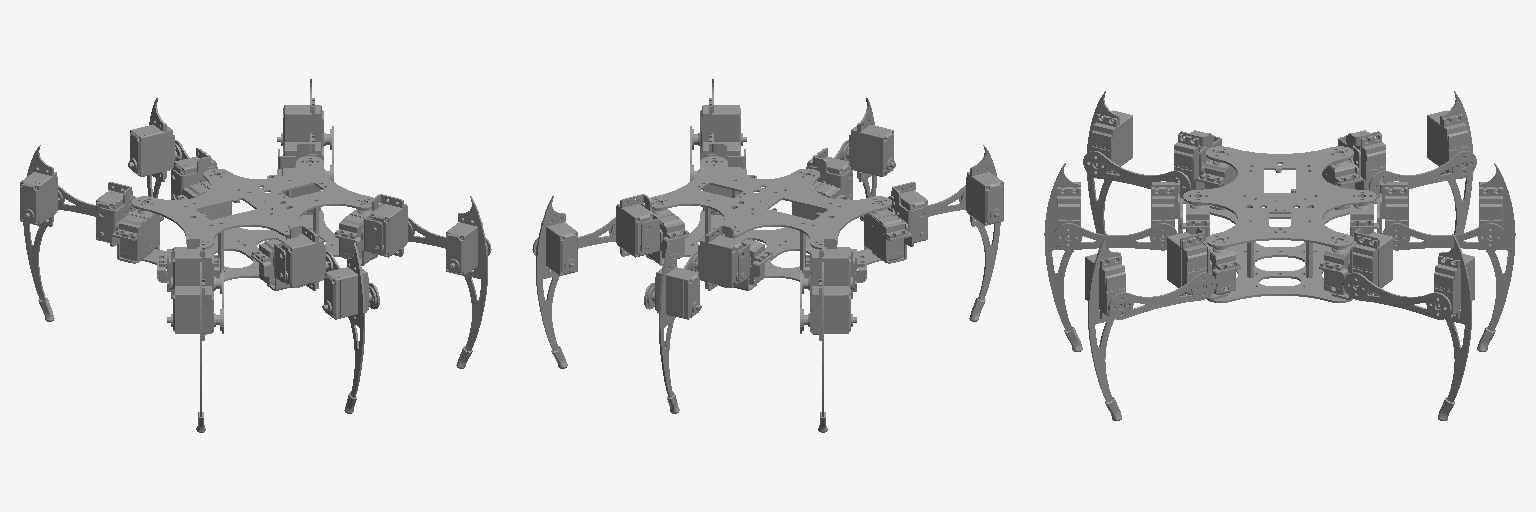
--- Facts derived from the render (not from the file) ---
Views: 3 orthographic renders of the robot side by side, from view 1: azimuth 30°, elevation 25°; view 2: azimuth 150°, elevation 25°; view 3: azimuth 270°, elevation 25°.
Model Hexapod with 32 links and 31 joints (18 revolute, 13 fixed), rooted at root_link, posed all joints at 0.
Visible links, largest first — view 1: body_link, R_front_coxa_link, R_mid_coxa_link, L_back_coxa_link, R_front_tibia_link, R_mid_tibia_link, L_back_tibia_link, L_mid_tibia_link, R_back_tibia_link, R_back_coxa_link, L_mid_coxa_link, L_front_tibia_link (+2 smaller); view 2: body_link, L_front_coxa_link, L_mid_coxa_link, R_back_coxa_link, L_front_tibia_link, L_mid_tibia_link, R_back_tibia_link, R_mid_tibia_link, L_back_tibia_link, L_back_coxa_link, R_mid_coxa_link, R_front_tibia_link (+2 smaller); view 3: body_link, L_front_tibia_link, R_front_tibia_link, L_front_coxa_link, R_front_coxa_link, L_mid_tibia_link, R_mid_tibia_link, L_back_tibia_link, R_back_tibia_link, L_back_coxa_link, R_back_coxa_link, L_mid_coxa_link (+7 smaller).
Boxes of the visible links, <box> form: body_link: <box>132,156,377,287</box>; R_front_coxa_link: <box>335,194,412,265</box>; R_mid_coxa_link: <box>251,225,332,290</box>; L_back_coxa_link: <box>96,182,163,263</box>; R_front_tibia_link: <box>446,196,487,368</box>; R_mid_tibia_link: <box>322,242,376,413</box>; L_back_tibia_link: <box>20,145,62,321</box>; L_mid_tibia_link: <box>128,98,181,272</box>; R_back_tibia_link: <box>167,262,221,432</box>; R_back_coxa_link: <box>157,238,221,298</box>; L_mid_coxa_link: <box>171,148,231,219</box>; L_front_tibia_link: <box>277,79,331,149</box>; body_link: <box>646,156,891,287</box>; L_front_coxa_link: <box>611,194,688,265</box>; L_mid_coxa_link: <box>691,225,772,290</box>; R_back_coxa_link: <box>860,182,927,263</box>; L_front_tibia_link: <box>536,196,577,368</box>; L_mid_tibia_link: <box>647,242,701,413</box>; R_back_tibia_link: <box>961,145,1003,321</box>; R_mid_tibia_link: <box>842,98,895,272</box>; L_back_tibia_link: <box>802,262,856,432</box>; L_back_coxa_link: <box>802,238,866,298</box>; R_mid_coxa_link: <box>792,148,852,219</box>; R_front_tibia_link: <box>692,79,746,149</box>; body_link: <box>1183,146,1376,302</box>; L_front_tibia_link: <box>1430,234,1474,420</box>; R_front_tibia_link: <box>1085,234,1129,420</box>; L_front_coxa_link: <box>1319,228,1392,299</box>; R_front_coxa_link: <box>1167,228,1240,299</box>; L_mid_tibia_link: <box>1477,163,1515,351</box>; R_mid_tibia_link: <box>1044,163,1082,351</box>; L_back_tibia_link: <box>1427,91,1472,250</box>; R_back_tibia_link: <box>1087,91,1132,250</box>; L_back_coxa_link: <box>1322,130,1385,209</box>; R_back_coxa_link: <box>1174,130,1237,209</box>; L_mid_coxa_link: <box>1350,180,1408,244</box>.
Bounding box of the posed robot: 0.3377 × 0.4002 × 0.1763 m (x, y, z).
25 mesh visuals loaded from 8 distinct referenced files (8 Collada DAE).

URDF robot description (Hexapod):
<?xml version="1.0" ?>
<!-- created with Phobos 1.0.1 "Capricious Choutengan" -->
<robot name="Hexapod">
    <link name="L_back_coxa_link">

<inertial>
            <origin xyz="0 0 0" rpy="0 0 0" />
            <mass value="0.1" />
            <inertia ixx="4e-05" ixy="1e-05" ixz="0" iyy="5e-05" iyz="0" izz="5e-05" />
        </inertial>

        <visual name="L_back_coxa">
            <origin xyz="0 0 0" rpy="0 0 0" />
            <geometry>
                <mesh filename="package://hexapod_description/meshes/dae/L_coxa_shape.dae" scale="1.0 1.0 1.0" />
            </geometry>
            <material name="coxa_mat" />
        </visual>
        <collision name="L_back_coxa">
            <origin xyz="0.0147 0.00949 0.00745" rpy="0 0 0" />
            <geometry>
                <mesh filename="package://hexapod_description/meshes/dae/L_coxa_shape.dae" scale="1.0 1.0 1.0" />
            </geometry>
        </collision>
    </link>
    <link name="L_back_femur_link">

<inertial>
            <origin xyz="0 0 0" rpy="0 0 0" />
            <mass value="0.1" />
            <inertia ixx="0.00015" ixy="7e-05" ixz="3e-05" iyy="7e-05" iyz="-5e-05" izz="0.00022" />
        </inertial>

        <visual name="L_back_femur">
            <origin xyz="0 0 0" rpy="3.14159 -1.5708 0" />
            <geometry>
                <mesh filename="package://hexapod_description/meshes/dae/L_femur_shape.dae" scale="1.0 1.0 1.0" />
            </geometry>
            <material name="femur_mat" />
        </visual>
        <collision name="L_back_femur">
            <origin xyz="-0.02133 5e-05 0.04" rpy="3.14159 -1.5708 0" />
            <geometry>
                <mesh filename="package://hexapod_description/meshes/dae/L_femur_shape.dae" scale="1.0 1.0 1.0" />
            </geometry>
        </collision>
    </link>
    <link name="L_back_foot_link">

<inertial>
            <origin xyz="0 0 0" rpy="0 0 0" />
            <mass value="0.001" />
            <inertia ixx="0.001" ixy="0" ixz="0" iyy="0.001" iyz="0" izz="0.001" />
        </inertial>

    </link>
    <link name="L_back_tibia_link">

<inertial>
            <origin xyz="0.00047 -0.00372 -0.0585" rpy="0 0 0" />
            <mass value="0.2" />
            <inertia ixx="6e-05" ixy="4e-05" ixz="0" iyy="6e-05" iyz="0" izz="3e-05" />
        </inertial>

        <visual name="L_back_foot">
            <origin xyz="0.00094 -0.00744 -0.117" rpy="0 1.5708 0" />
            <geometry>
                <mesh filename="package://hexapod_description/meshes/dae/foot_shape.dae" scale="1.0 1.0 1.0" />
            </geometry>
            <material name="foot_mat" />
        </visual>
        <visual name="L_back_tibia">
            <origin xyz="0 0 0" rpy="0 1.5708 0" />
            <geometry>
                <mesh filename="package://hexapod_description/meshes/dae/L_tibia_shape.dae" scale="1.0 1.0 1.0" />
            </geometry>
            <material name="tibia_mat" />
        </visual>
        <collision name="L_back_tibia.000">
            <origin xyz="0 0 0" rpy="0 1.5708 0" />
            <geometry>
                <mesh filename="package://hexapod_description/meshes/dae/L_tibia_shape.dae" scale="1.0 1.0 1.0" />
            </geometry>
        </collision>
    </link>
    <link name="L_front_coxa_link">

<inertial>
            <origin xyz="0 0 0" rpy="0 0 0" />
            <mass value="0.1" />
            <inertia ixx="6e-05" ixy="0" ixz="0" iyy="3e-05" iyz="0" izz="5e-05" />
        </inertial>

        <visual name="L_front_coxa">
            <origin xyz="0 0 0" rpy="0 0 0" />
            <geometry>
                <mesh filename="package://hexapod_description/meshes/dae/L_coxa_shape.dae" scale="1.0 1.0 1.0" />
            </geometry>
            <material name="coxa_mat" />
        </visual>
        <collision name="L_front_coxa">
            <origin xyz="0.0147 0.00949 0.00745" rpy="0 0 0" />
            <geometry>
                <mesh filename="package://hexapod_description/meshes/dae/L_coxa_shape.dae" scale="1.0 1.0 1.0" />
            </geometry>
        </collision>
    </link>
    <link name="L_front_femur_link">

<inertial>
            <origin xyz="0 0 0" rpy="0 0 0" />
            <mass value="0.1" />
            <inertia ixx="0.00016" ixy="-7e-05" ixz="-3e-05" iyy="7e-05" iyz="-5e-05" izz="0.00022" />
        </inertial>

        <visual name="L_front_femur">
            <origin xyz="0 0 0" rpy="-3.14159 -1.5708 0" />
            <geometry>
                <mesh filename="package://hexapod_description/meshes/dae/L_femur_shape.dae" scale="1.0 1.0 1.0" />
            </geometry>
            <material name="femur_mat" />
        </visual>
        <collision name="L_front_femur">
            <origin xyz="-0.02134 5e-05 0.04" rpy="-3.14159 -1.5708 0" />
            <geometry>
                <mesh filename="package://hexapod_description/meshes/dae/L_femur_shape.dae" scale="1.0 1.0 1.0" />
            </geometry>
        </collision>
    </link>
    <link name="L_front_foot_link">

<inertial>
            <origin xyz="0 0 0" rpy="0 0 0" />
            <mass value="0.001" />
            <inertia ixx="0.001" ixy="0" ixz="0" iyy="0.001" iyz="0" izz="0.001" />
        </inertial>

    </link>
    <link name="L_front_tibia_link">

<inertial>
            <origin xyz="0.00047 -0.00372 -0.0585" rpy="0 0 0" />
            <mass value="0.2" />
            <inertia ixx="6e-05" ixy="4e-05" ixz="0" iyy="6e-05" iyz="0" izz="3e-05" />
        </inertial>

        <visual name="L_front_foot">
            <origin xyz="0.00094 -0.00744 -0.117" rpy="0 1.5708 0" />
            <geometry>
                <mesh filename="package://hexapod_description/meshes/dae/foot_shape.dae" scale="1.0 1.0 1.0" />
            </geometry>
            <material name="foot_mat" />
        </visual>
        <visual name="L_front_tibia">
            <origin xyz="0 0 0" rpy="0 1.5708 0" />
            <geometry>
                <mesh filename="package://hexapod_description/meshes/dae/L_tibia_shape.dae" scale="1.0 1.0 1.0" />
            </geometry>
            <material name="tibia_mat" />
        </visual>
        <collision name="L_front_tibia.000">
            <origin xyz="0 0 0" rpy="0 1.5708 0" />
            <geometry>
                <mesh filename="package://hexapod_description/meshes/dae/L_tibia_shape.dae" scale="1.0 1.0 1.0" />
            </geometry>
        </collision>
    </link>
    <link name="L_mid_coxa_link">

<inertial>
            <origin xyz="0 0 0" rpy="0 0 0" />
            <mass value="0.1" />
            <inertia ixx="5e-05" ixy="0" ixz="0" iyy="3e-05" iyz="0" izz="5e-05" />
        </inertial>

        <visual name="L_mid_coxa">
            <origin xyz="0 0 0" rpy="0 0 0" />
            <geometry>
                <mesh filename="package://hexapod_description/meshes/dae/L_coxa_shape.dae" scale="1.0 1.0 1.0" />
            </geometry>
            <material name="coxa_mat" />
        </visual>
        <collision name="L_mid_coxa">
            <origin xyz="0.0147 0.00949 0.00745" rpy="0 0 0" />
            <geometry>
                <mesh filename="package://hexapod_description/meshes/dae/L_coxa_shape.dae" scale="1.0 1.0 1.0" />
            </geometry>
        </collision>
    </link>
    <link name="L_mid_femur_link">

<inertial>
            <origin xyz="0 0 0" rpy="0 0 0" />
            <mass value="0.1" />
            <inertia ixx="0.00019" ixy="0" ixz="0" iyy="3e-05" iyz="-6e-05" izz="0.00022" />
        </inertial>

        <visual name="L_mid_femur">
            <origin xyz="0 0 0" rpy="-3.14159 -1.5708 0" />
            <geometry>
                <mesh filename="package://hexapod_description/meshes/dae/L_femur_shape.dae" scale="1.0 1.0 1.0" />
            </geometry>
            <material name="femur_mat" />
        </visual>
        <collision name="L_mid_femur">
            <origin xyz="-0.02134 5e-05 0.04" rpy="-3.14159 -1.5708 0" />
            <geometry>
                <mesh filename="package://hexapod_description/meshes/dae/L_femur_shape.dae" scale="1.0 1.0 1.0" />
            </geometry>
        </collision>
    </link>
    <link name="L_mid_foot_link">

<inertial>
            <origin xyz="0 0 0" rpy="0 0 0" />
            <mass value="0.001" />
            <inertia ixx="0.001" ixy="0" ixz="0" iyy="0.001" iyz="0" izz="0.001" />
        </inertial>

    </link>
    <link name="L_mid_tibia_link">

<inertial>
            <origin xyz="0.00047 -0.00372 -0.0585" rpy="0 0 0" />
            <mass value="0.2" />
            <inertia ixx="6e-05" ixy="4e-05" ixz="0" iyy="7e-05" iyz="0" izz="3e-05" />
        </inertial>

        <visual name="L_mid_foot">
            <origin xyz="0.00094 -0.00744 -0.117" rpy="0 1.5708 0" />
            <geometry>
                <mesh filename="package://hexapod_description/meshes/dae/foot_shape.dae" scale="1.0 1.0 1.0" />
            </geometry>
            <material name="foot_mat" />
        </visual>
        <visual name="L_mid_tibia">
            <origin xyz="0 0 0" rpy="0 1.5708 0" />
            <geometry>
                <mesh filename="package://hexapod_description/meshes/dae/L_tibia_shape.dae" scale="1.0 1.0 1.0" />
            </geometry>
            <material name="tibia_mat" />
        </visual>
        <collision name="L_mid_tibia.000">
            <origin xyz="0 0 0" rpy="0 1.5708 0" />
            <geometry>
                <mesh filename="package://hexapod_description/meshes/dae/L_tibia_shape.dae" scale="1.0 1.0 1.0" />
            </geometry>
        </collision>
    </link>
    <link name="R_back_coxa_link">

<inertial>
            <origin xyz="0 0 0" rpy="0 0 0" />
            <mass value="0.1" />
            <inertia ixx="6e-05" ixy="0" ixz="0" iyy="3e-05" iyz="0" izz="5e-05" />
        </inertial>

        <visual name="R_back_coxa">
            <origin xyz="0 0 0" rpy="0 0 0" />
            <geometry>
                <mesh filename="package://hexapod_description/meshes/dae/R_coxa_shape.dae" scale="1.0 1.0 1.0" />
            </geometry>
            <material name="coxa_mat" />
        </visual>
        <collision name="R_back_coxa">
            <origin xyz="0.0147 -0.00949 0.00745" rpy="0 0 0" />
            <geometry>
                <mesh filename="package://hexapod_description/meshes/dae/R_coxa_shape.dae" scale="1.0 1.0 1.0" />
            </geometry>
        </collision>
    </link>
    <link name="R_back_femur_link">

<inertial>
            <origin xyz="0 0 0" rpy="0 0 0" />
            <mass value="0.1" />
            <inertia ixx="0.00016" ixy="-7e-05" ixz="-3e-05" iyy="7e-05" iyz="-5e-05" izz="0.00022" />
        </inertial>

        <visual name="R_back_femur">
            <origin xyz="0 0 0" rpy="3.14159 -1.5708 0" />
            <geometry>
                <mesh filename="package://hexapod_description/meshes/dae/R_femur_shape.dae" scale="1.0 1.0 1.0" />
            </geometry>
            <material name="femur_mat" />
        </visual>
        <collision name="R_back_femur">
            <origin xyz="0.02134 5e-05 0.04" rpy="3.14159 -1.5708 0" />
            <geometry>
                <mesh filename="package://hexapod_description/meshes/dae/R_femur_shape.dae" scale="1.0 1.0 1.0" />
            </geometry>
        </collision>
    </link>
    <link name="R_back_foot_link">

<inertial>
            <origin xyz="0 0 0" rpy="0 0 0" />
            <mass value="0.001" />
            <inertia ixx="0.001" ixy="0" ixz="0" iyy="0.001" iyz="0" izz="0.001" />
        </inertial>

    </link>
    <link name="R_back_tibia_link">

<inertial>
            <origin xyz="-0.00049 -0.0037 -0.0585" rpy="0 0 0" />
            <mass value="0.2" />
            <inertia ixx="6e-05" ixy="4e-05" ixz="0" iyy="6e-05" iyz="-1e-05" izz="3e-05" />
        </inertial>

        <visual name="R_back_foot">
            <origin xyz="-0.00099 -0.0074 -0.117" rpy="0 1.5708 0" />
            <geometry>
                <mesh filename="package://hexapod_description/meshes/dae/foot_shape.dae" scale="1.0 1.0 1.0" />
            </geometry>
            <material name="foot_mat" />
        </visual>
        <visual name="R_back_tibia">
            <origin xyz="0 0 0" rpy="0 1.5708 0" />
            <geometry>
                <mesh filename="package://hexapod_description/meshes/dae/R_tibia_shape.dae" scale="1.0 1.0 1.0" />
            </geometry>
            <material name="tibia_mat" />
        </visual>
        <collision name="R_back_tibia.000">
            <origin xyz="0 0 0" rpy="0 1.5708 0" />
            <geometry>
                <mesh filename="package://hexapod_description/meshes/dae/R_tibia_shape.dae" scale="1.0 1.0 1.0" />
            </geometry>
        </collision>
    </link>
    <link name="R_front_coxa_link">

<inertial>
            <origin xyz="0 0 0" rpy="0 0 0" />
            <mass value="0.1" />
            <inertia ixx="4e-05" ixy="0" ixz="1e-05" iyy="5e-05" iyz="0" izz="5e-05" />
        </inertial>

        <visual name="R_front_coxa">
            <origin xyz="0 0 0" rpy="0 0 0" />
            <geometry>
                <mesh filename="package://hexapod_description/meshes/dae/R_coxa_shape.dae" scale="1.0 1.0 1.0" />
            </geometry>
            <material name="coxa_mat" />
        </visual>
        <collision name="R_front_coxa">
            <origin xyz="0.0147 -0.00949 0.00745" rpy="0 0 0" />
            <geometry>
                <mesh filename="package://hexapod_description/meshes/dae/R_coxa_shape.dae" scale="1.0 1.0 1.0" />
            </geometry>
        </collision>
    </link>
    <link name="R_front_femur_link">

<inertial>
            <origin xyz="0 0 0" rpy="0 0 0" />
            <mass value="0.1" />
            <inertia ixx="0.00015" ixy="7e-05" ixz="3e-05" iyy="7e-05" iyz="-5e-05" izz="0.00022" />
        </inertial>

        <visual name="R_front_femur">
            <origin xyz="0 0 0" rpy="3.14159 -1.5708 0" />
            <geometry>
                <mesh filename="package://hexapod_description/meshes/dae/R_femur_shape.dae" scale="1.0 1.0 1.0" />
            </geometry>
            <material name="femur_mat" />
        </visual>
        <collision name="R_front_femur">
            <origin xyz="0.02133 5e-05 0.04" rpy="3.14159 -1.5708 0" />
            <geometry>
                <mesh filename="package://hexapod_description/meshes/dae/R_femur_shape.dae" scale="1.0 1.0 1.0" />
            </geometry>
        </collision>
    </link>
    <link name="R_front_foot_link">

<inertial>
            <origin xyz="0 0 0" rpy="0 0 0" />
            <mass value="0.001" />
            <inertia ixx="0.001" ixy="0" ixz="0" iyy="0.001" iyz="0" izz="0.001" />
        </inertial>

    </link>
    <link name="R_front_tibia_link">

<inertial>
            <origin xyz="-0.00049 -0.0037 -0.0585" rpy="0 0 0" />
            <mass value="0.2" />
            <inertia ixx="6e-05" ixy="4e-05" ixz="0" iyy="6e-05" iyz="0" izz="3e-05" />
        </inertial>

        <visual name="R_front_foot">
            <origin xyz="-0.00099 -0.0074 -0.117" rpy="0 1.5708 0" />
            <geometry>
                <mesh filename="package://hexapod_description/meshes/dae/foot_shape.dae" scale="1.0 1.0 1.0" />
            </geometry>
            <material name="foot_mat" />
        </visual>
        <visual name="R_front_tibia">
            <origin xyz="0 0 0" rpy="0 1.5708 0" />
            <geometry>
                <mesh filename="package://hexapod_description/meshes/dae/R_tibia_shape.dae" scale="1.0 1.0 1.0" />
            </geometry>
            <material name="tibia_mat" />
        </visual>
        <collision name="R_front_tibia.000">
            <origin xyz="0 0 0" rpy="0 1.5708 0" />
            <geometry>
                <mesh filename="package://hexapod_description/meshes/dae/R_tibia_shape.dae" scale="1.0 1.0 1.0" />
            </geometry>
        </collision>
    </link>
    <link name="R_mid_coxa_link">

<inertial>
            <origin xyz="0 0 0" rpy="0 0 0" />
            <mass value="0.1" />
            <inertia ixx="5e-05" ixy="0" ixz="0" iyy="3e-05" iyz="0" izz="5e-05" />
        </inertial>

        <visual name="R_mid_coxa">
            <origin xyz="0 0 0" rpy="0 0 0" />
            <geometry>
                <mesh filename="package://hexapod_description/meshes/dae/R_coxa_shape.dae" scale="1.0 1.0 1.0" />
            </geometry>
            <material name="coxa_mat" />
        </visual>
        <collision name="R_mid_coxa">
            <origin xyz="0.0147 -0.00949 0.00745" rpy="0 0 0" />
            <geometry>
                <mesh filename="package://hexapod_description/meshes/dae/R_coxa_shape.dae" scale="1.0 1.0 1.0" />
            </geometry>
        </collision>
    </link>
    <link name="R_mid_femur_link">

<inertial>
            <origin xyz="0 0 0" rpy="0 0 0" />
            <mass value="0.1" />
            <inertia ixx="0.00019" ixy="0" ixz="0" iyy="3e-05" iyz="-6e-05" izz="0.00022" />
        </inertial>

        <visual name="R_mid_femur">
            <origin xyz="0 0 0" rpy="-3.14159 -1.5708 0" />
            <geometry>
                <mesh filename="package://hexapod_description/meshes/dae/R_femur_shape.dae" scale="1.0 1.0 1.0" />
            </geometry>
            <material name="femur_mat" />
        </visual>
        <collision name="R_mid_femur">
            <origin xyz="0.02134 5e-05 0.04" rpy="-3.14159 -1.5708 0" />
            <geometry>
                <mesh filename="package://hexapod_description/meshes/dae/R_femur_shape.dae" scale="1.0 1.0 1.0" />
            </geometry>
        </collision>
    </link>
    <link name="R_mid_foot_link">

<inertial>
            <origin xyz="0 0 0" rpy="0 0 0" />
            <mass value="0.001" />
            <inertia ixx="0.001" ixy="0" ixz="0" iyy="0.001" iyz="0" izz="0.001" />
        </inertial>

    </link>
    <link name="R_mid_tibia_link">

<inertial>
            <origin xyz="-0.00049 -0.0037 -0.0585" rpy="0 0 0" />
            <mass value="0.2" />
            <inertia ixx="6e-05" ixy="4e-05" ixz="0" iyy="7e-05" iyz="-1e-05" izz="3e-05" />
        </inertial>

        <visual name="R_mid_foot">
            <origin xyz="-0.00099 -0.0074 -0.117" rpy="0 1.5708 0" />
            <geometry>
                <mesh filename="package://hexapod_description/meshes/dae/foot_shape.dae" scale="1.0 1.0 1.0" />
            </geometry>
            <material name="foot_mat" />
        </visual>
        <visual name="R_mid_tibia">
            <origin xyz="0 0 0" rpy="0 1.5708 0" />
            <geometry>
                <mesh filename="package://hexapod_description/meshes/dae/R_tibia_shape.dae" scale="1.0 1.0 1.0" />
            </geometry>
            <material name="tibia_mat" />
        </visual>
        <collision name="R_mid_tibia.000">
            <origin xyz="0 0 0" rpy="0 1.5708 0" />
            <geometry>
                <mesh filename="package://hexapod_description/meshes/dae/R_tibia_shape.dae" scale="1.0 1.0 1.0" />
            </geometry>
        </collision>
    </link>
    <link name="body_link">

<inertial>
            <origin xyz="0 0 0" rpy="0 0 0" />
            <mass value="0.2" />
            <inertia ixx="0.00024" ixy="0" ixz="0" iyy="0.00047" iyz="0" izz="0.00055" />
        </inertial>

        <visual name="thorax">
            <origin xyz="0 0 0" rpy="0 0 0" />
            <geometry>
                <mesh filename="package://hexapod_description/meshes/dae/thorax_shape.dae" scale="1.0 1.0 1.0" />
            </geometry>
            <material name="thorax_mat" />
        </visual>
        <collision name="thorax">
            <origin xyz="0 0 0.00135" rpy="0 0 0" />
            <geometry>
                <mesh filename="package://hexapod_description/meshes/dae/thorax_shape.dae" scale="1.0 1.0 1.0" />
            </geometry>
        </collision>
    </link>
    <link name="root_link" />
    <joint name="L_back_coxa_jnt" type="revolute">
        <origin xyz="-0.0876 0.05057 0" rpy="0 0 2.0944" />
        <parent link="body_link" />
        <child link="L_back_coxa_link" />
        <axis xyz="0 0 -1.0" />
        <limit lower="-1.5708" upper="1.5708" effort="1.274" velocity="3e-05" />
    </joint>
    <joint name="L_back_femur_jnt" type="revolute">
        <origin xyz="0.0294 0 0" rpy="1.5708 0 1.5708" />
        <parent link="L_back_coxa_link" />
        <child link="L_back_femur_link" />
        <axis xyz="1.0 0 0" />
        <limit lower="-1.5708" upper="1.5708" effort="1.274" velocity="3e-05" />
    </joint>
    <joint name="L_back_foot_jnt" type="fixed">
        <origin xyz="0 -0.0075 -0.117" rpy="0 0 0" />
        <!-- <origin xyz="-0.13777 0.13934 -0.117" rpy="0 0 2.0944"/> -->
        <parent link="L_back_tibia_link" />
        <child link="L_back_foot_link" />
        <limit effort="1.274" velocity="3e-05" />
    </joint>
    <joint name="L_back_tibia_jnt" type="revolute">
        <origin xyz="0 0 0.08" rpy="1.5708 0 3.14159" />
        <parent link="L_back_femur_link" />
        <child link="L_back_tibia_link" />
        <axis xyz="-1.0 0 0" />
        <limit lower="-1.5708" upper="1.5708" effort="1.274" velocity="3e-05" />
    </joint>
    <joint name="L_front_coxa_jnt" type="revolute">
        <origin xyz="0.0876 0.05057 0" rpy="0 0 1.0472" />
        <parent link="body_link" />
        <child link="L_front_coxa_link" />
        <axis xyz="0 0 -1.0" />
        <limit lower="-1.5708" upper="1.5708" effort="1.274" velocity="3e-05" />
    </joint>
    <joint name="L_front_femur_jnt" type="revolute">
        <origin xyz="0.0294 0 0" rpy="1.5708 0 1.5708" />
        <parent link="L_front_coxa_link" />
        <child link="L_front_femur_link" />
        <axis xyz="1.0 0 0" />
        <limit lower="-1.5708" upper="1.5708" effort="1.274" velocity="3e-05" />
    </joint>
    <joint name="L_front_foot_jnt" type="fixed">
        <origin xyz="0 -0.0075 -0.117" rpy="0 0 0" />
        <!-- <origin xyz="0.13939 0.1384 -0.117" rpy="0 0 1.0472"/> -->
        <parent link="L_front_tibia_link" />
        <child link="L_front_foot_link" />
        <limit effort="1.274" velocity="3e-05" />
    </joint>
    <joint name="L_front_tibia_jnt" type="revolute">
        <origin xyz="0 0 0.08" rpy="-1.5708 3.14159 0" />
        <parent link="L_front_femur_link" />
        <child link="L_front_tibia_link" />
        <axis xyz="-1.0 0 0" />
        <limit lower="-1.5708" upper="1.5708" effort="1.274" velocity="3e-05" />
    </joint>
    <joint name="L_mid_coxa_jnt" type="revolute">
        <origin xyz="0 0.06985 0" rpy="0 0 1.5708" />
        <parent link="body_link" />
        <child link="L_mid_coxa_link" />
        <axis xyz="0 0 -1.0" />
        <limit lower="-1.5708" upper="1.5708" effort="1.274" velocity="3e-05" />
    </joint>
    <joint name="L_mid_femur_jnt" type="revolute">
        <origin xyz="0.0294 0 0" rpy="1.5708 0 1.5708" />
        <parent link="L_mid_coxa_link" />
        <child link="L_mid_femur_link" />
        <axis xyz="1.0 0 0" />
        <limit lower="-1.5708" upper="1.5708" effort="1.274" velocity="3e-05" />
    </joint>
    <joint name="L_mid_foot_jnt" type="fixed">
        <origin xyz="0 -0.0075 -0.117" rpy="0 0 0" />
        <!-- <origin xyz="0.00094 0.17181 -0.117" rpy="0 0 1.5708"/> -->
        <parent link="L_mid_tibia_link" />
        <child link="L_mid_foot_link" />
        <limit effort="1.274" velocity="3e-05" />
    </joint>
    <joint name="L_mid_tibia_jnt" type="revolute">
        <origin xyz="0 0 0.08" rpy="1.5708 0 -3.14159" />
        <parent link="L_mid_femur_link" />
        <child link="L_mid_tibia_link" />
        <axis xyz="-1.0 0 0" />
        <limit lower="-1.5708" upper="1.5708" effort="1.274" velocity="3e-05" />
    </joint>
    <joint name="R_back_coxa_jnt" type="revolute">
        <origin xyz="-0.0876 -0.05057 0" rpy="0 0 -2.0944" />
        <parent link="body_link" />
        <child link="R_back_coxa_link" />
        <axis xyz="0 0 1.0" />
        <limit lower="-1.5708" upper="1.5708" effort="1.274" velocity="3e-05" />
    </joint>
    <joint name="R_back_femur_jnt" type="revolute">
        <origin xyz="0.0294 0 0" rpy="1.5708 0 1.5708" />
        <parent link="R_back_coxa_link" />
        <child link="R_back_femur_link" />
        <axis xyz="1.0 0 0" />
        <limit lower="-1.5708" upper="1.5708" effort="1.274" velocity="3e-05" />
    </joint>
    <joint name="R_back_foot_jnt" type="fixed">
        <origin xyz="0 -0.0075 -0.117" rpy="0 0 0" />
        <!-- <origin xyz="-0.13774 -0.1394 -0.117" rpy="0 0 -2.09439"/> -->
        <parent link="R_back_tibia_link" />
        <child link="R_back_foot_link" />
        <limit effort="1.274" velocity="3e-05" />
    </joint>
    <joint name="R_back_tibia_jnt" type="revolute">
        <origin xyz="0 0 0.08" rpy="1.5708 0 3.14159" />
        <parent link="R_back_femur_link" />
        <child link="R_back_tibia_link" />
        <axis xyz="-1.0 0 0" />
        <limit lower="-1.5708" upper="1.5708" effort="1.274" velocity="3e-05" />
    </joint>
    <joint name="R_front_coxa_jnt" type="revolute">
        <origin xyz="0.0876 -0.05057 0" rpy="0 0 -1.0472" />
        <parent link="body_link" />
        <child link="R_front_coxa_link" />
        <axis xyz="0 0 1.0" />
        <limit lower="-1.5708" upper="1.5708" effort="1.274" velocity="3e-05" />
    </joint>
    <joint name="R_front_femur_jnt" type="revolute">
        <origin xyz="0.0294 0 0" rpy="1.5708 0 1.5708" />
        <parent link="R_front_coxa_link" />
        <child link="R_front_femur_link" />
        <axis xyz="1.0 0 0" />
        <limit lower="-1.5708" upper="1.5708" effort="1.274" velocity="3e-05" />
    </joint>
    <joint name="R_front_foot_jnt" type="fixed">
        <origin xyz="0 -0.0075 -0.117" rpy="0 0 0" />
        <!-- <origin xyz="0.13945 -0.13842 -0.117" rpy="0 0 -1.0472"/> -->
        <parent link="R_front_tibia_link" />
        <child link="R_front_foot_link" />
        <limit effort="1.274" velocity="3e-05" />
    </joint>
    <joint name="R_front_tibia_jnt" type="revolute">
        <origin xyz="0 0 0.08" rpy="1.5708 0 3.14159" />
        <parent link="R_front_femur_link" />
        <child link="R_front_tibia_link" />
        <axis xyz="-1.0 0 0" />
        <limit lower="-1.5708" upper="1.5708" effort="1.274" velocity="3e-05" />
    </joint>
    <joint name="R_mid_coxa_jnt" type="revolute">
        <origin xyz="0 -0.06985 0" rpy="0 0 -1.5708" />
        <parent link="body_link" />
        <child link="R_mid_coxa_link" />
        <axis xyz="0 0 1.0" />
        <limit lower="-1.5708" upper="1.5708" effort="1.274" velocity="3e-05" />
    </joint>
    <joint name="R_mid_femur_jnt" type="revolute">
        <origin xyz="0.0294 0 0" rpy="1.5708 0 1.5708" />
        <parent link="R_mid_coxa_link" />
        <child link="R_mid_femur_link" />
        <axis xyz="1.0 0 0" />
        <limit lower="-1.5708" upper="1.5708" effort="1.274" velocity="3e-05" />
    </joint>
    <joint name="R_mid_foot_jnt" type="fixed">
        <origin xyz="0 -0.0075 -0.117" rpy="0 0 0" />
        <!-- <origin xyz="0.00099 -0.17185 -0.117" rpy="0 0 -1.5708"/> -->
        <parent link="R_mid_tibia_link" />
        <child link="R_mid_foot_link" />
        <limit effort="1.274" velocity="3e-05" />
    </joint>
    <joint name="R_mid_tibia_jnt" type="revolute">
        <origin xyz="0 0 0.08" rpy="1.5708 0 3.14159" />
        <parent link="R_mid_femur_link" />
        <child link="R_mid_tibia_link" />
        <axis xyz="-1.0 0 0" />
        <limit lower="-1.5708" upper="1.5708" effort="1.274" velocity="3e-05" />
    </joint>
    <joint name="body_jnt" type="fixed">
        <origin xyz="0 0 0" rpy="0 0 0" />
        <parent link="root_link" />
        <child link="body_link" />
        <limit effort="1.274" velocity="3e-05" />
    </joint>
    <link name="L_front_ee_link" />
    <link name="L_mid_ee_link" />
    <link name="L_back_ee_link" />
    <link name="R_front_ee_link" />
    <link name="R_mid_ee_link" />
    <link name="R_back_ee_link" />
    <joint name="L_front_ee_jnt" type="fixed">
        <origin xyz="0 0 0" rpy="0 0 0" />
        <parent link="L_front_foot_link" />
        <child link="L_front_ee_link" />
    </joint>
    <joint name="L_mid_ee_jnt" type="fixed">
        <origin xyz="0 0 0" rpy="0 0 0" />
        <parent link="L_mid_foot_link" />
        <child link="L_mid_ee_link" />
    </joint>
    <joint name="L_back_ee_jnt" type="fixed">
        <origin xyz="0 0 0" rpy="0 0 0" />
        <parent link="L_back_foot_link" />
        <child link="L_back_ee_link" />
    </joint>
    <joint name="R_front_ee_jnt" type="fixed">
        <origin xyz="0 0 0" rpy="0 0 0" />
        <parent link="R_front_foot_link" />
        <child link="R_front_ee_link" />
    </joint>
    <joint name="R_mid_ee_jnt" type="fixed">
        <origin xyz="0 0 0" rpy="0 0 0" />
        <parent link="R_mid_foot_link" />
        <child link="R_mid_ee_link" />
    </joint>
    <joint name="R_back_ee_jnt" type="fixed">
        <origin xyz="0 0 0" rpy="0 0 0" />
        <parent link="R_back_foot_link" />
        <child link="R_back_ee_link" />
    </joint>
    <material name="coxa_mat">
        <color rgba="0.64 0.64 0.64 1.0" />
    </material>
    <material name="femur_mat">
        <color rgba="0.64 0.64 0.64 1.0" />
    </material>
    <material name="foot_mat">
        <color rgba="0.64 0.64 0.64 1.0" />
    </material>
    <material name="thorax_mat">
        <color rgba="0.64 0.64 0.64 1.0" />
    </material>
    <material name="tibia_mat">
        <color rgba="0.64 0.64 0.64 1.0" />
    </material>

<transmission name="trans_L_back_coxa_jnt">
        <type>transmission_interface/SimpleTransmission</type>
        <joint name="L_back_coxa_jnt">
            <hardwareInterface>hardware_interface/EffortJointInterface</hardwareInterface>
        </joint>
        <actuator name="L_back_coxa_jnt_motor">
            <hardwareInterface>hardware_interface/EffortJointInterface</hardwareInterface>
            <mechanicalReduction>1</mechanicalReduction>
        </actuator>
    </transmission>
    <transmission name="trans_L_back_femur_jnt">
        <type>transmission_interface/SimpleTransmission</type>
        <joint name="L_back_femur_jnt">
            <hardwareInterface>hardware_interface/EffortJointInterface</hardwareInterface>
        </joint>
        <actuator name="L_back_femur_jnt_motor">
            <hardwareInterface>hardware_interface/EffortJointInterface</hardwareInterface>
            <mechanicalReduction>1</mechanicalReduction>
        </actuator>
    </transmission>
    <transmission name="trans_L_back_tibia_jnt">
        <type>transmission_interface/SimpleTransmission</type>
        <joint name="L_back_tibia_jnt">
            <hardwareInterface>hardware_interface/EffortJointInterface</hardwareInterface>
        </joint>
        <actuator name="L_back_tibia_jnt_motor">
            <hardwareInterface>hardware_interface/EffortJointInterface</hardwareInterface>
            <mechanicalReduction>1</mechanicalReduction>
        </actuator>
    </transmission>
    <transmission name="trans_L_front_coxa_jnt">
        <type>transmission_interface/SimpleTransmission</type>
        <joint name="L_front_coxa_jnt">
            <hardwareInterface>hardware_interface/EffortJointInterface</hardwareInterface>
        </joint>
        <actuator name="L_front_coxa_jnt_motor">
            <hardwareInterface>hardware_interface/EffortJointInterface</hardwareInterface>
            <mechanicalReduction>1</mechanicalReduction>
        </actuator>
    </transmission>
    <transmission name="trans_L_front_femur_jnt">
        <type>transmission_interface/SimpleTransmission</type>
        <joint name="L_front_femur_jnt">
            <hardwareInterface>hardware_interface/EffortJointInterface</hardwareInterface>
        </joint>
        <actuator name="L_front_femur_jnt_motor">
            <hardwareInterface>hardware_interface/EffortJointInterface</hardwareInterface>
            <mechanicalReduction>1</mechanicalReduction>
        </actuator>
    </transmission>
    <transmission name="trans_L_front_tibia_jnt">
        <type>transmission_interface/SimpleTransmission</type>
        <joint name="L_front_tibia_jnt">
            <hardwareInterface>hardware_interface/EffortJointInterface</hardwareInterface>
        </joint>
        <actuator name="L_front_tibia_jnt_motor">
            <hardwareInterface>hardware_interface/EffortJointInterface</hardwareInterface>
            <mechanicalReduction>1</mechanicalReduction>
        </actuator>
    </transmission>
    <transmission name="trans_L_mid_coxa_jnt">
        <type>transmission_interface/SimpleTransmission</type>
        <joint name="L_mid_coxa_jnt">
            <hardwareInterface>hardware_interface/EffortJointInterface</hardwareInterface>
        </joint>
        <actuator name="L_mid_coxa_jnt_motor">
            <hardwareInterface>hardware_interface/EffortJointInterface</hardwareInterface>
            <mechanicalReduction>1</mechanicalReduction>
        </actuator>
    </transmission>
    <transmission name="trans_L_mid_femur_jnt">
        <type>transmission_interface/SimpleTransmission</type>
        <joint name="L_mid_femur_jnt">
            <hardwareInterface>hardware_interface/EffortJointInterface</hardwareInterface>
        </joint>
        <actuator name="L_mid_femur_jnt_motor">
            <hardwareInterface>hardware_interface/EffortJointInterface</hardwareInterface>
            <mechanicalReduction>1</mechanicalReduction>
        </actuator>
    </transmission>
    <transmission name="trans_L_mid_tibia_jnt">
        <type>transmission_interface/SimpleTransmission</type>
        <joint name="L_mid_tibia_jnt">
            <hardwareInterface>hardware_interface/EffortJointInterface</hardwareInterface>
        </joint>
        <actuator name="L_mid_tibia_jnt_motor">
            <hardwareInterface>hardware_interface/EffortJointInterface</hardwareInterface>
            <mechanicalReduction>1</mechanicalReduction>
        </actuator>
    </transmission>
    <transmission name="trans_R_back_coxa_jnt">
        <type>transmission_interface/SimpleTransmission</type>
        <joint name="R_back_coxa_jnt">
            <hardwareInterface>hardware_interface/EffortJointInterface</hardwareInterface>
        </joint>
        <actuator name="R_back_coxa_jnt_motor">
            <hardwareInterface>hardware_interface/EffortJointInterface</hardwareInterface>
            <mechanicalReduction>1</mechanicalReduction>
        </actuator>
    </transmission>
    <transmission name="trans_R_back_femur_jnt">
        <type>transmission_interface/SimpleTransmission</type>
        <joint name="R_back_femur_jnt">
            <hardwareInterface>hardware_interface/EffortJointInterface</hardwareInterface>
        </joint>
        <actuator name="R_back_femur_jnt_motor">
            <hardwareInterface>hardware_interface/EffortJointInterface</hardwareInterface>
            <mechanicalReduction>1</mechanicalReduction>
        </actuator>
    </transmission>
    <transmission name="trans_R_back_tibia_jnt">
        <type>transmission_interface/SimpleTransmission</type>
        <joint name="R_back_tibia_jnt">
            <hardwareInterface>hardware_interface/EffortJointInterface</hardwareInterface>
        </joint>
        <actuator name="R_back_tibia_jnt_motor">
            <hardwareInterface>hardware_interface/EffortJointInterface</hardwareInterface>
            <mechanicalReduction>1</mechanicalReduction>
        </actuator>
    </transmission>
    <transmission name="trans_R_front_coxa_jnt">
        <type>transmission_interface/SimpleTransmission</type>
        <joint name="R_front_coxa_jnt">
            <hardwareInterface>hardware_interface/EffortJointInterface</hardwareInterface>
        </joint>
        <actuator name="R_front_coxa_jnt_motor">
            <hardwareInterface>hardware_interface/EffortJointInterface</hardwareInterface>
            <mechanicalReduction>1</mechanicalReduction>
        </actuator>
    </transmission>
    <transmission name="trans_R_front_femur_jnt">
        <type>transmission_interface/SimpleTransmission</type>
        <joint name="R_front_femur_jnt">
            <hardwareInterface>hardware_interface/EffortJointInterface</hardwareInterface>
        </joint>
        <actuator name="R_front_femur_jnt_motor">
            <hardwareInterface>hardware_interface/EffortJointInterface</hardwareInterface>
            <mechanicalReduction>1</mechanicalReduction>
        </actuator>
    </transmission>
    <transmission name="trans_R_front_tibia_jnt">
        <type>transmission_interface/SimpleTransmission</type>
        <joint name="R_front_tibia_jnt">
            <hardwareInterface>hardware_interface/EffortJointInterface</hardwareInterface>
        </joint>
        <actuator name="R_front_tibia_jnt_motor">
            <hardwareInterface>hardware_interface/EffortJointInterface</hardwareInterface>
            <mechanicalReduction>1</mechanicalReduction>
        </actuator>
    </transmission>
    <transmission name="trans_R_mid_coxa_jnt">
        <type>transmission_interface/SimpleTransmission</type>
        <joint name="R_mid_coxa_jnt">
            <hardwareInterface>hardware_interface/EffortJointInterface</hardwareInterface>
        </joint>
        <actuator name="R_mid_coxa_jnt_motor">
            <hardwareInterface>hardware_interface/EffortJointInterface</hardwareInterface>
            <mechanicalReduction>1</mechanicalReduction>
        </actuator>
    </transmission>
    <transmission name="trans_R_mid_femur_jnt">
        <type>transmission_interface/SimpleTransmission</type>
        <joint name="R_mid_femur_jnt">
            <hardwareInterface>hardware_interface/EffortJointInterface</hardwareInterface>
        </joint>
        <actuator name="R_mid_femur_jnt_motor">
            <hardwareInterface>hardware_interface/EffortJointInterface</hardwareInterface>
            <mechanicalReduction>1</mechanicalReduction>
        </actuator>
    </transmission>
    <transmission name="trans_R_mid_tibia_jnt">
        <type>transmission_interface/SimpleTransmission</type>
        <joint name="R_mid_tibia_jnt">
            <hardwareInterface>hardware_interface/EffortJointInterface</hardwareInterface>
        </joint>
        <actuator name="R_mid_tibia_jnt_motor">
            <hardwareInterface>hardware_interface/EffortJointInterface</hardwareInterface>
            <mechanicalReduction>1</mechanicalReduction>
        </actuator>
    </transmission>
    <gazebo>
        <plugin name="gazebo_ros_control" filename="libgazebo_ros_control.so">
            <robotNamespace>/Hexapod</robotNamespace>
        </plugin>
    </gazebo>
</robot>
